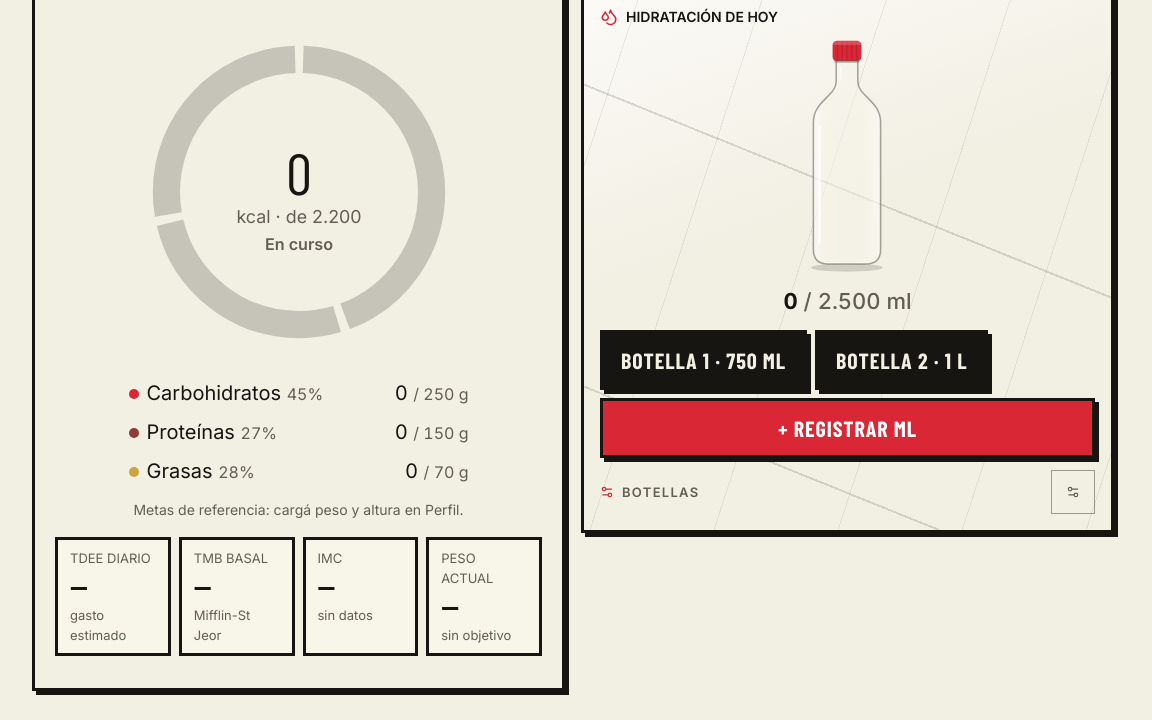
Test case: Nutrición — layout macros + hidratación › registrar una botella desde Nutrición suma al total del día
(page scrolled)
Click the button "Botella 1 · 750 ml" at (704, 360), box left=600, top=330, right=807, bottom=390
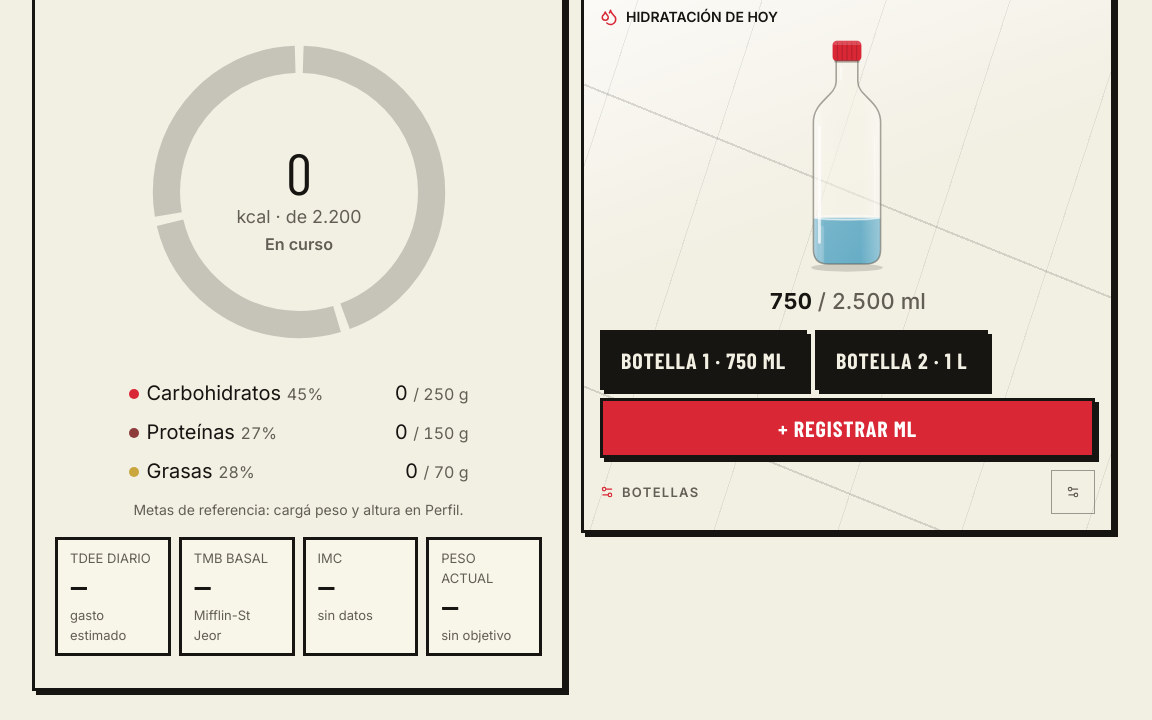
Now the element with class "althea-bottle__label" shows "750", box left=769, top=288, right=812, bottom=314
